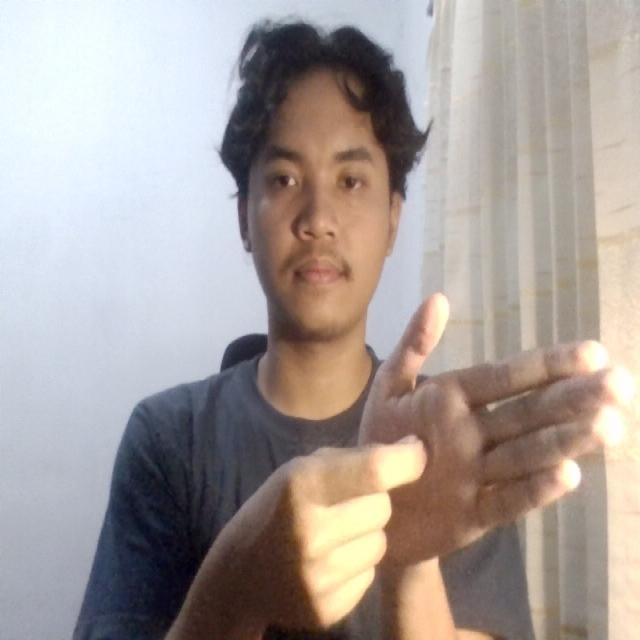L: (290, 285, 638, 592)
